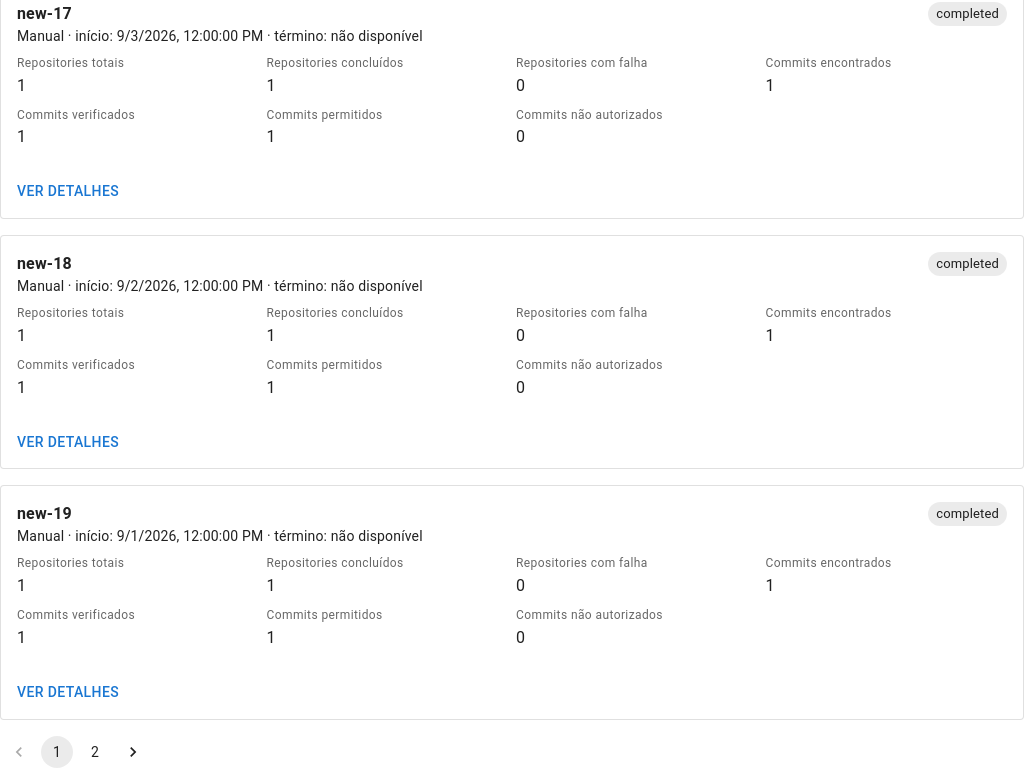
Test: navigates pages without reordering API items
This screenshot has width=1024, height=768.
(page scrolled)
Click the button named "Go to page 2": click(95, 752) [79,736,111,767]
(page scrolled)
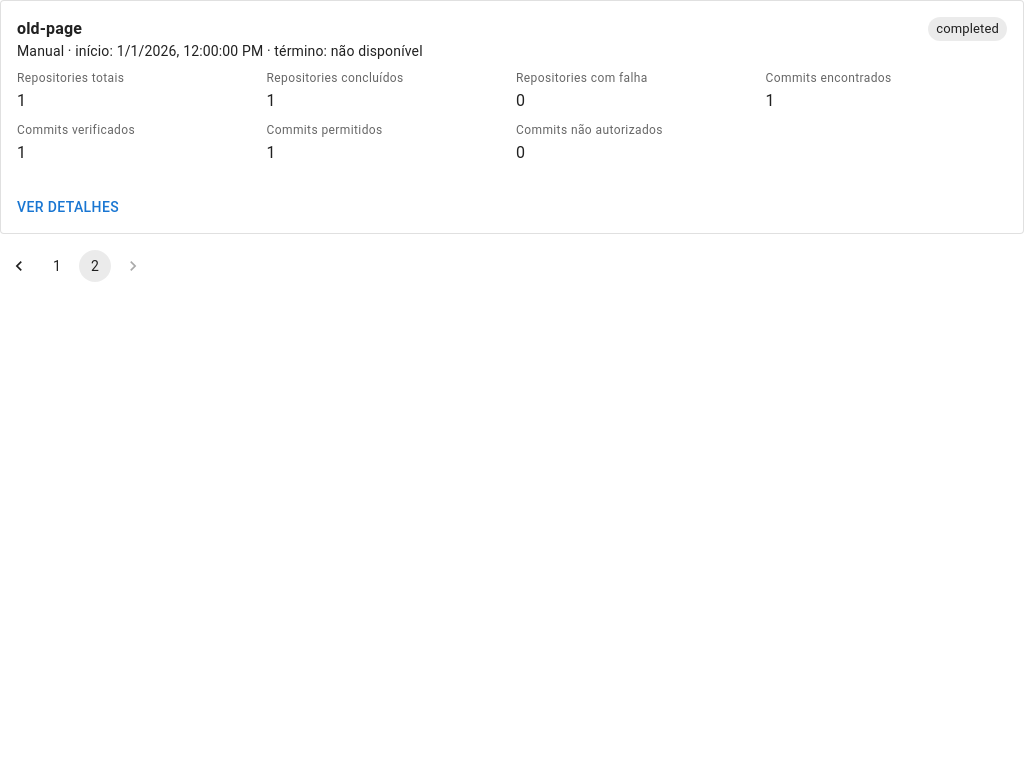
Expected: the text "old-page" is shown, [17,19,82,38]
